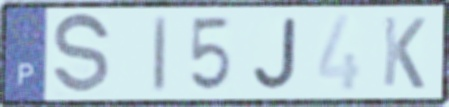4: (314, 12, 365, 94)
5: (188, 15, 234, 93)
I: (151, 13, 170, 95)
J: (251, 15, 301, 92)
K: (380, 14, 428, 92)
S: (49, 10, 113, 99)
